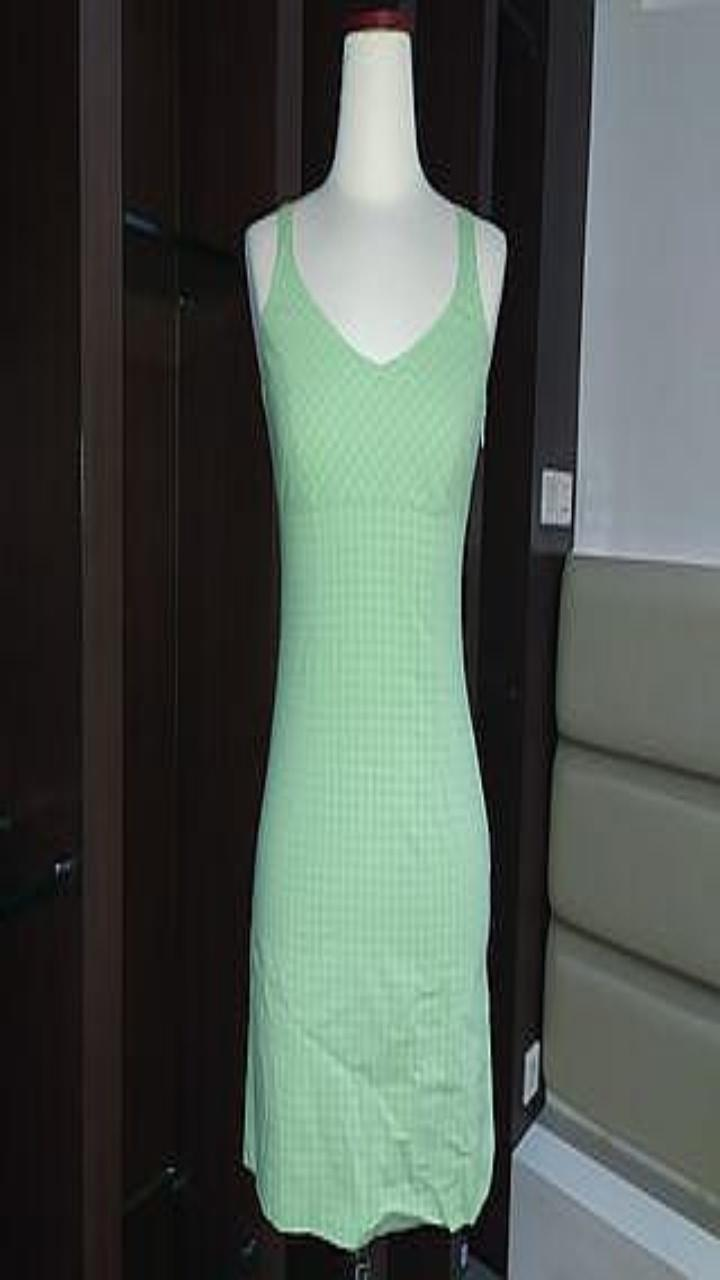Dresses: (242, 202, 493, 1248)
